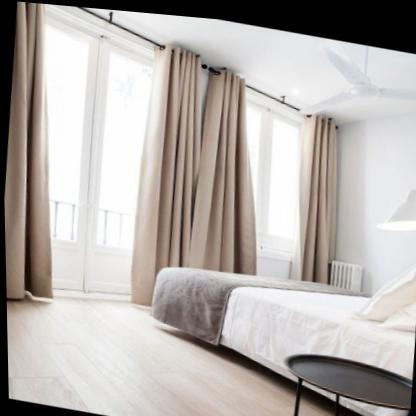Bed: (149, 259, 416, 377)
Curtains: (150, 45, 256, 277), (3, 1, 52, 301), (299, 110, 341, 277)
Wooden floor: (5, 297, 372, 416)
